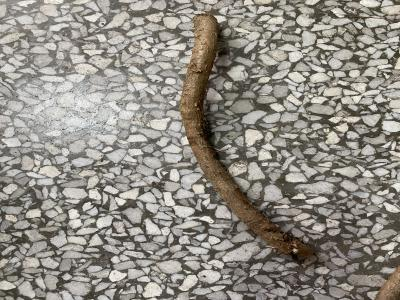Root: (180, 14, 313, 257)
